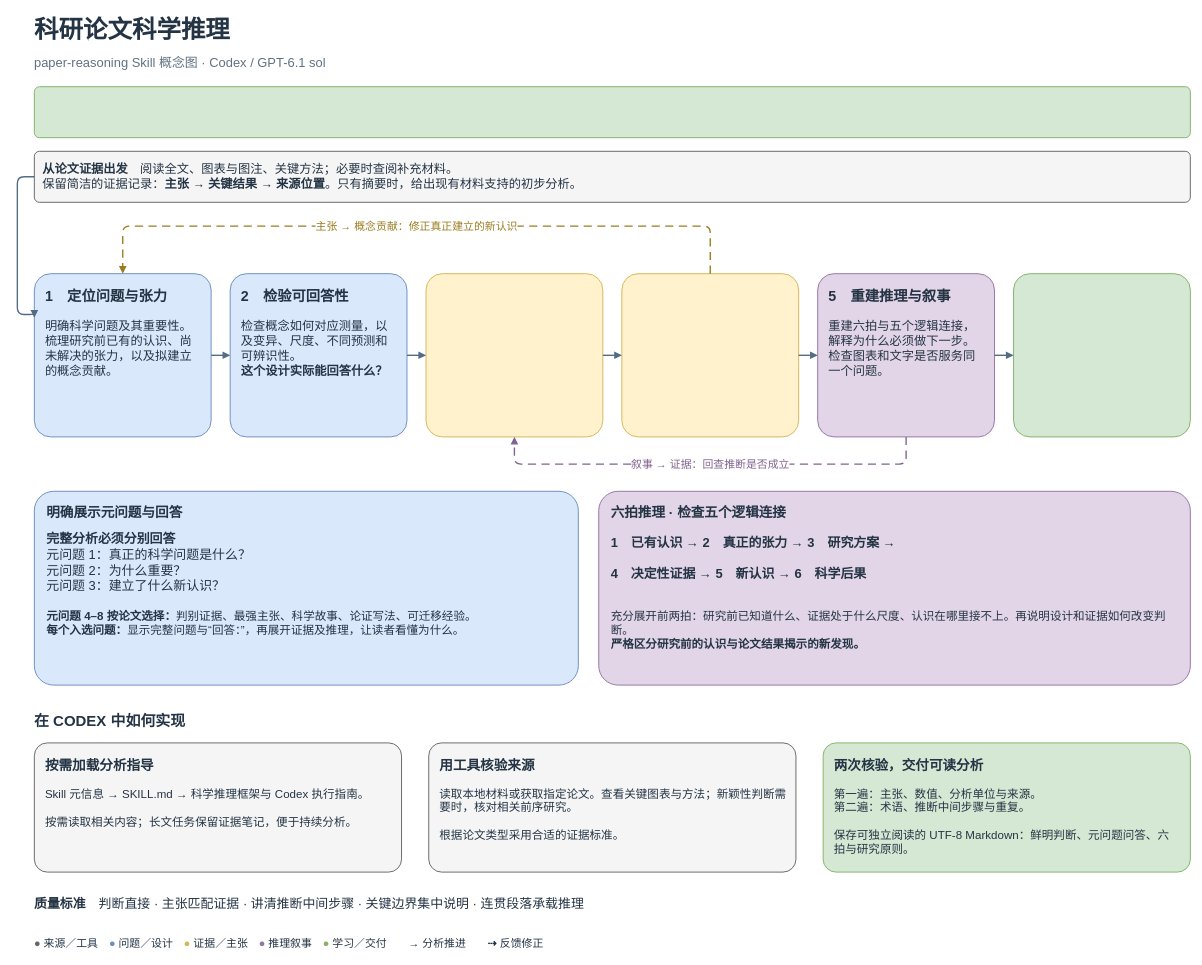
Image size: 1202x965. Some labels were removed from this diagram. Here are the shapes that lost their labels. From the top down, the centre of each, then its label:
At pixel 612 112: "目的 理解研究为什么必须走出下一步、证据改变了什么认识，并将这种推理能力用于自己的研究。".
At pixel 514 355: "3 建立证据架构 寻找决定性比较或最小必要证据组合，比较合理的替代解释。 去掉哪项结果，主张会明显削弱？".
At pixel 710 355: "4 校准核心主张 直接说出证据支持的最强结论。让相关、预测、机制与因果的表述匹配研究设计。".
At pixel 1101 355: "6 提炼可迁移原则 提炼 3–7 条可用于其他研究的原则。指出下一个有判别力的问题，以及新认识带来的后果。".
